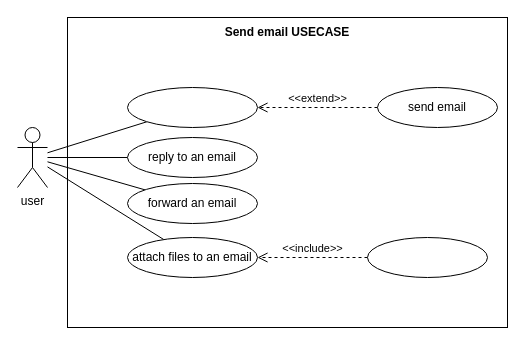
The diagram is 525 pixels wide and 345 high, and some of its shapes have lost their labels. The centre of each missing label's shape, as x and y in pixels:
antivirus scan: the point at 427,257
compose email: the point at 192,107
